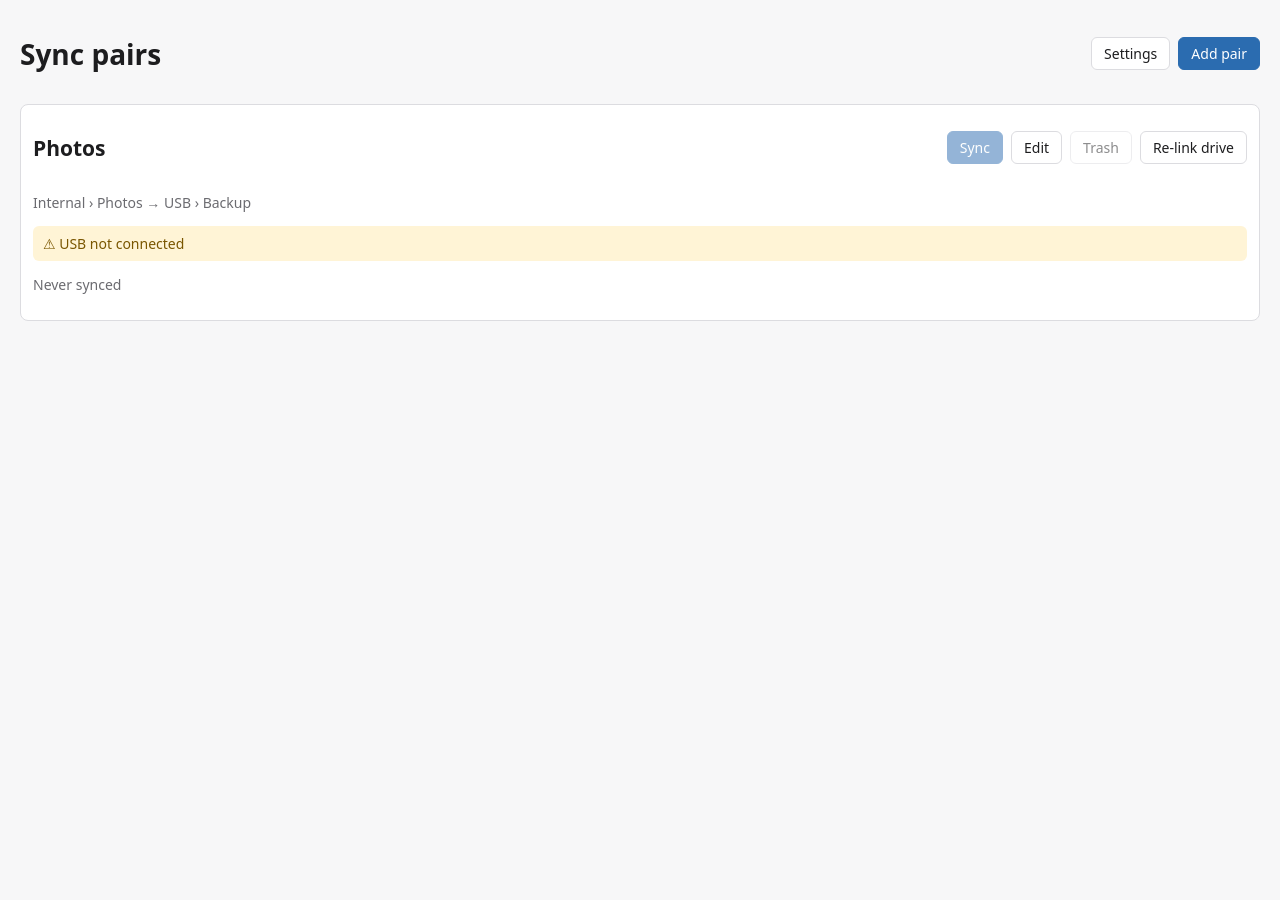
Scenario: Pairs › asks before re-linking onto the other side's drive, then retries with the flag
What coordinates should you click on to do the following:
click the button "Re-link drive"
I would click on:
 (1193, 148)
Its box is x1=1140 y1=131 x2=1247 y2=164.
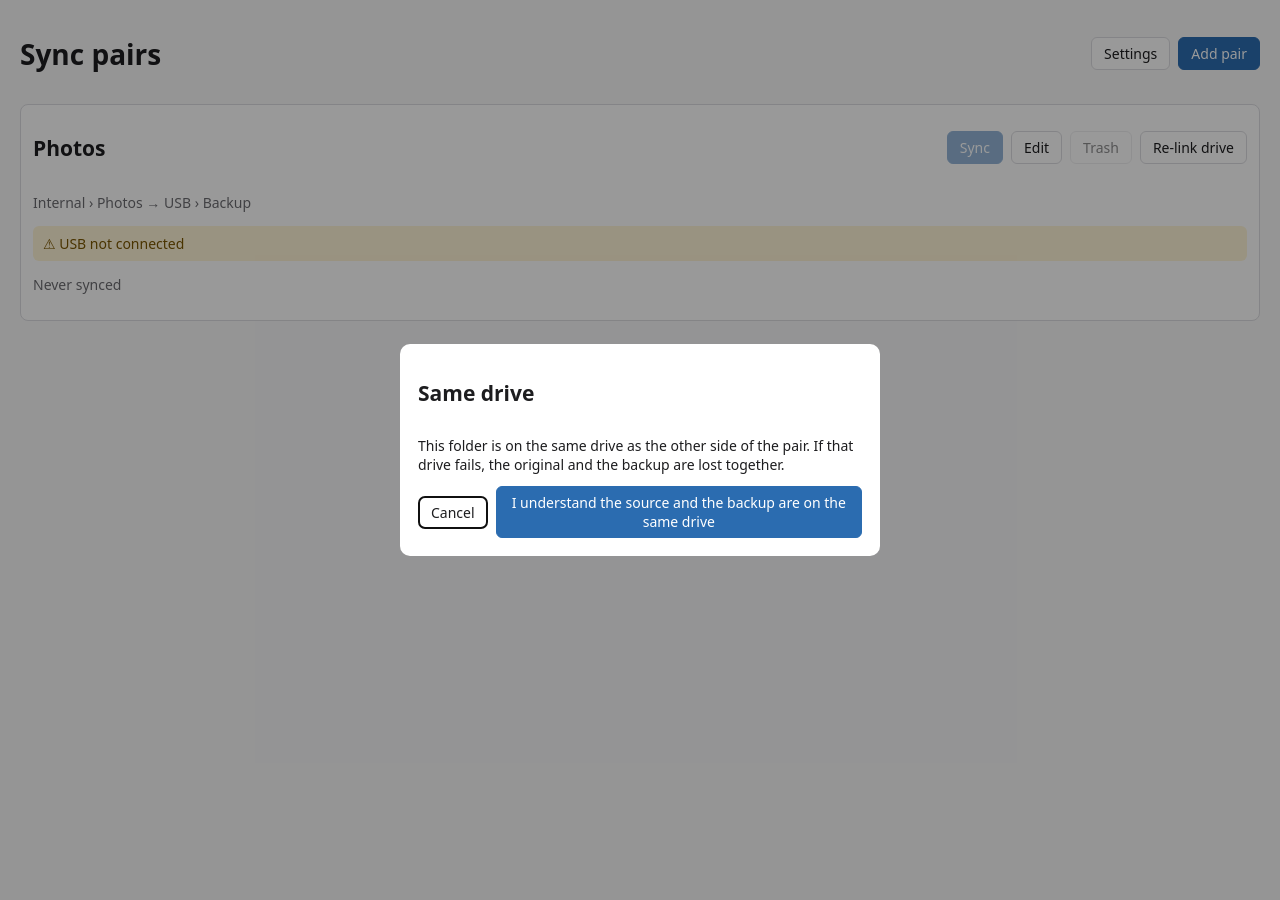
What coordinates should you click on to do the following:
click the button "I understand the source and the backup are on the same drive"
I would click on:
 (679, 512)
Its box is x1=496 y1=486 x2=862 y2=538.
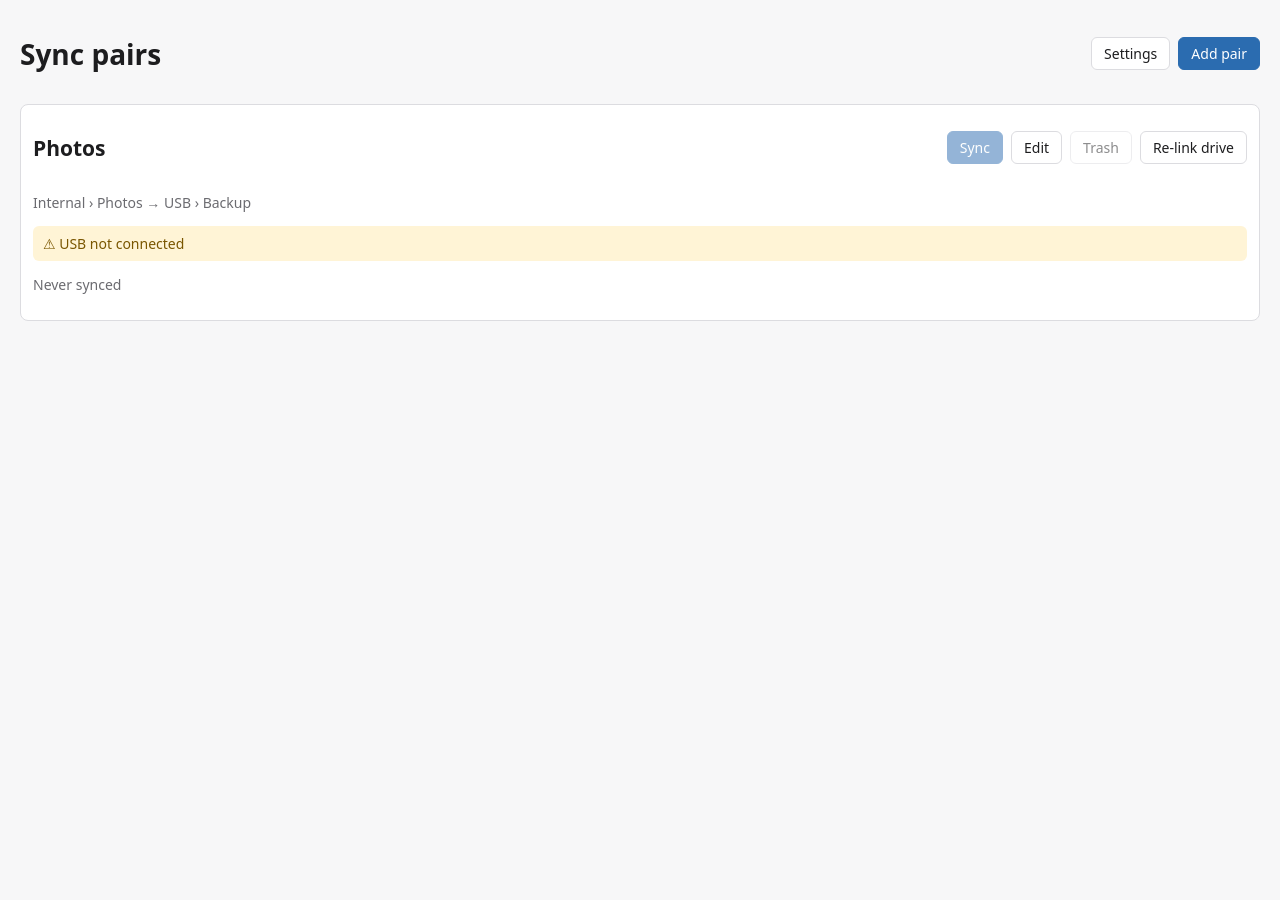
expect the dialog is gone: met
